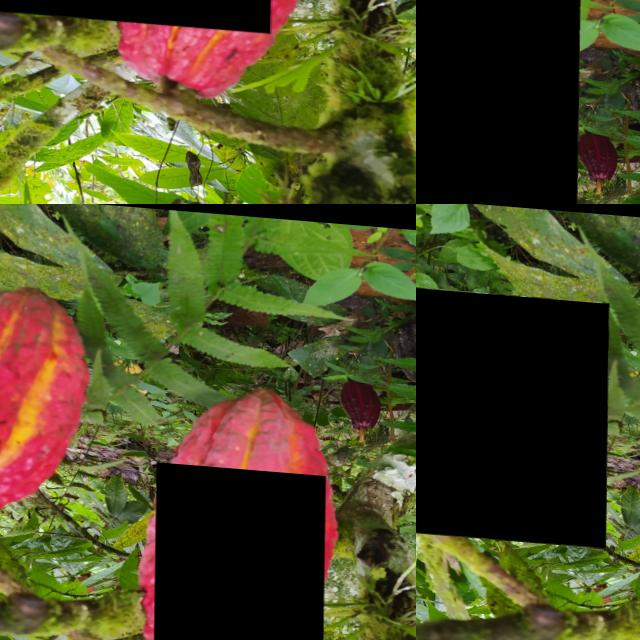Sana: (416, 284, 609, 544), (416, 0, 580, 204), (154, 456, 326, 640)
